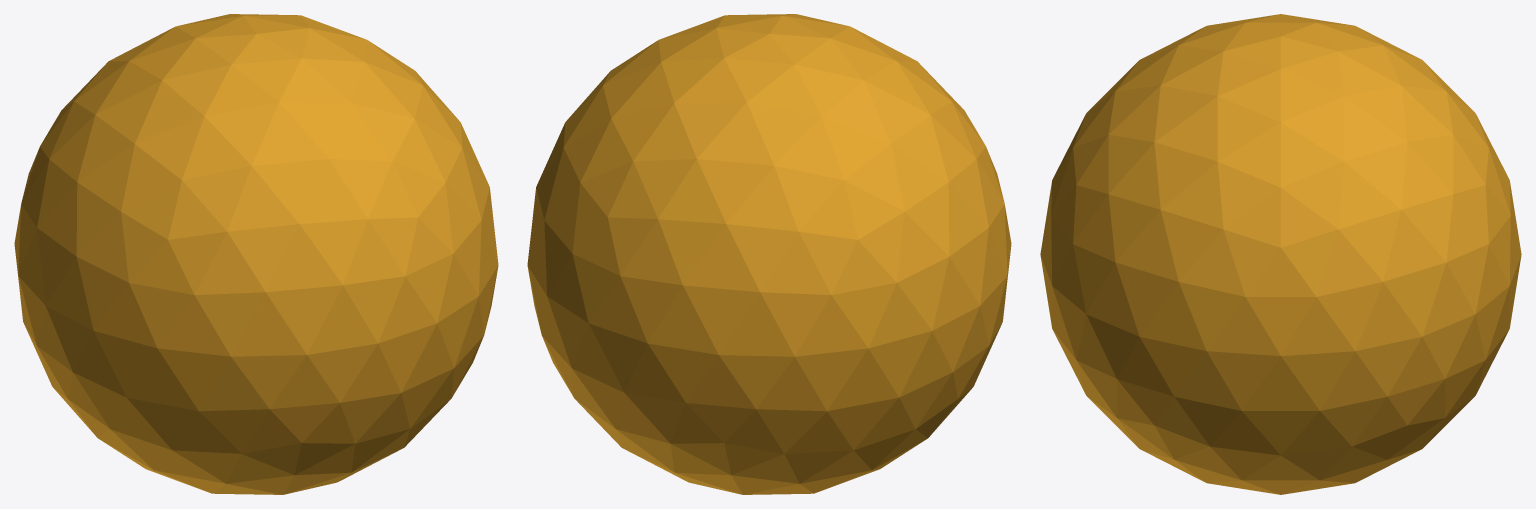
File: ball.glb
3 renders of one model, left to right at view 1: azimuth 30°, elevation 25°; view 2: azimuth 150°, elevation 25°; view 3: azimuth 270°, elevation 25°, orthographic.
Parts seen in each view (by area): view 1: Icosphere; view 2: Icosphere; view 3: Icosphere.
Boxes of the visible parts, left/top/right/bottom form: Icosphere: left=14, top=14, right=498, bottom=494; Icosphere: left=527, top=14, right=1011, bottom=494; Icosphere: left=1040, top=14, right=1521, bottom=494.
Size of the model in its own units: 0.0427 by 0.0427 by 0.0427.
